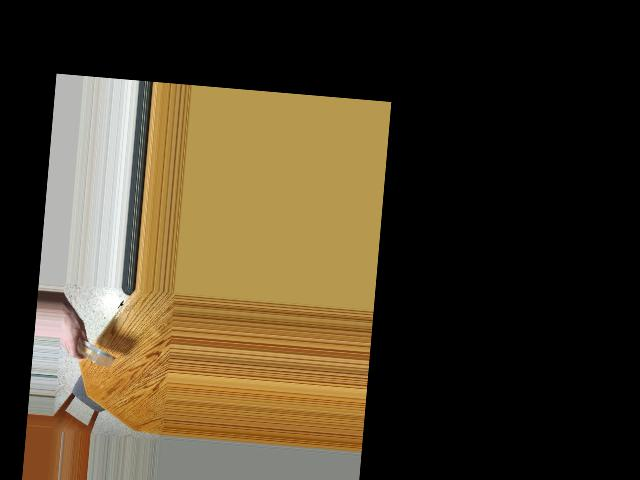cheese: (70, 339, 118, 367)
